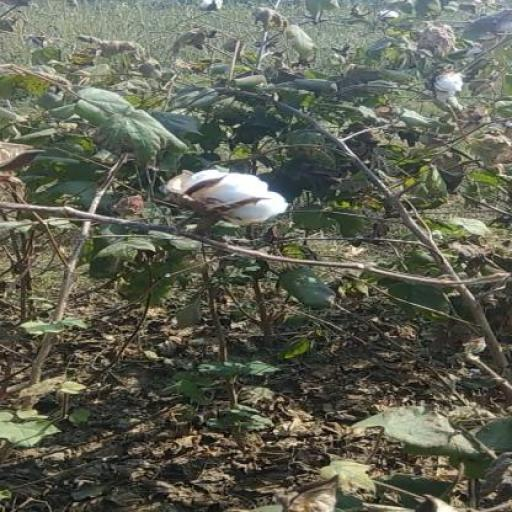cotton_ready: (159, 160, 293, 256)
